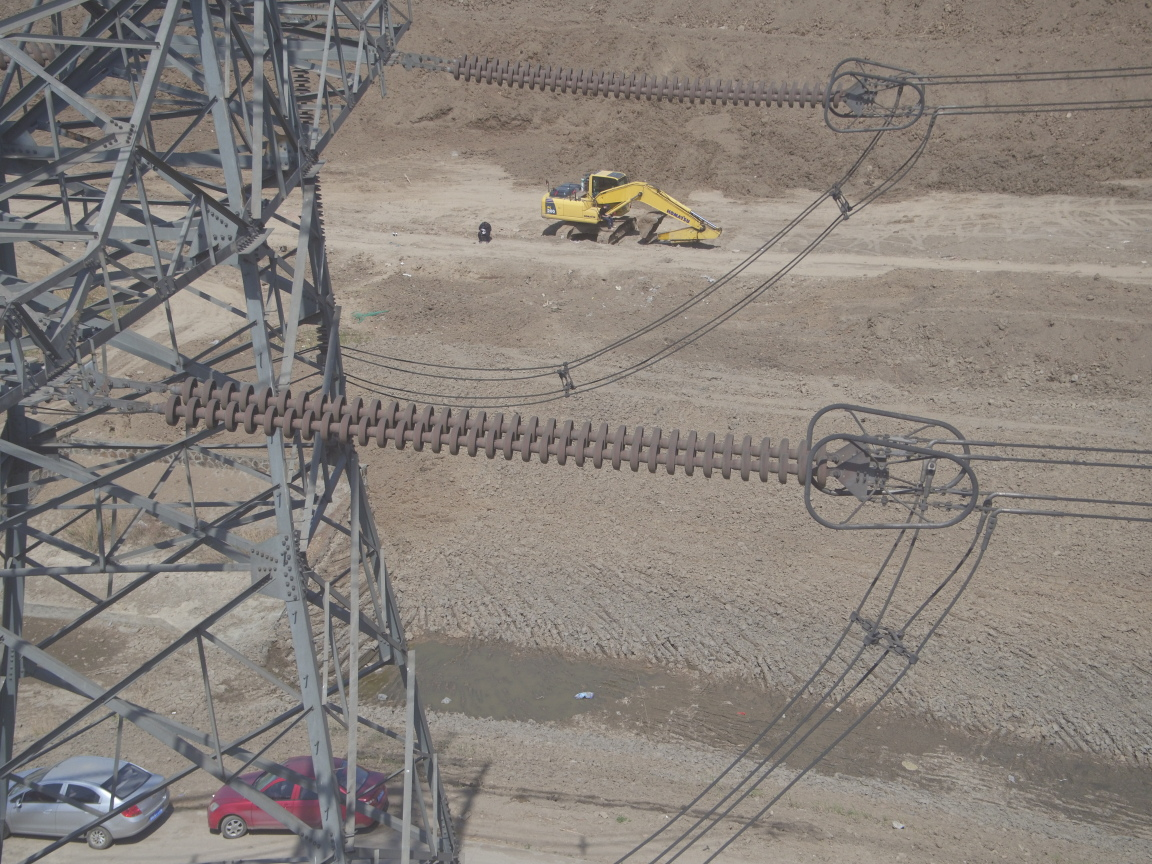insulator: (122, 373, 851, 492), (425, 51, 859, 111)
